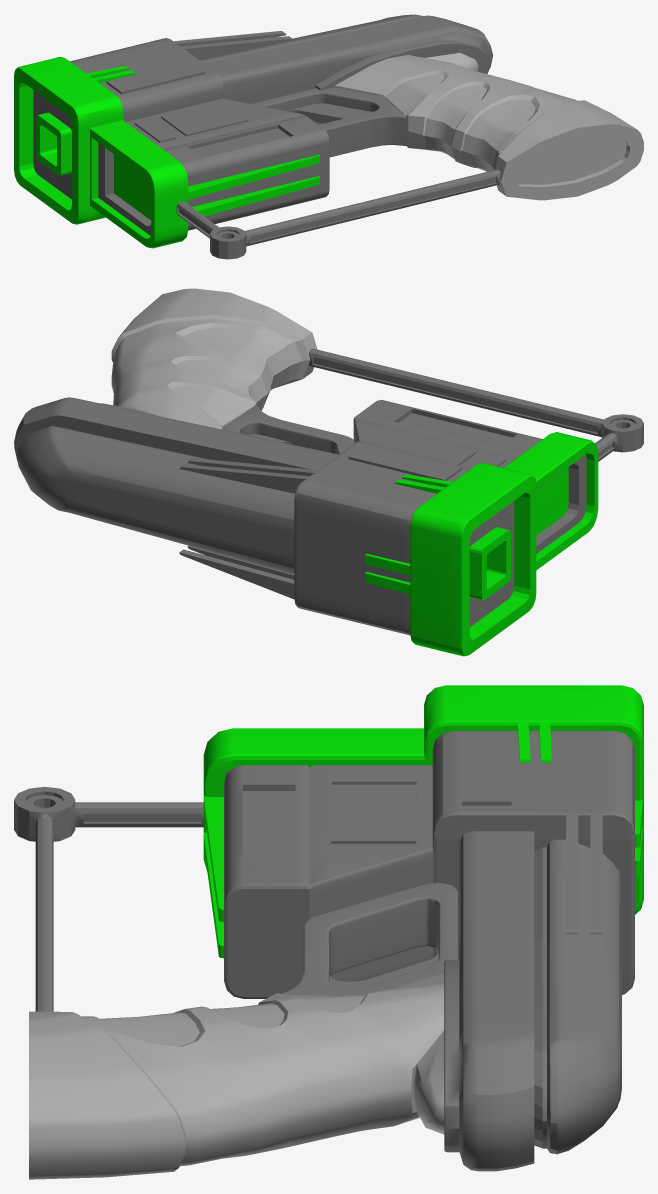
File: LaserPistol1(1).fbx
3 renders of one model, top to bottom at view 1: azimuth 30°, elevation 25°; view 2: azimuth 150°, elevation 25°; view 3: azimuth 270°, elevation 25°, orthographic. The views are drawn at different scales.
Parts seen in each view (by area): view 1: BarrelCap, Grip, Barrel, Reciever, Support, Trigger; view 2: Barrel, Reciever, BarrelCap, Grip, Support, Trigger; view 3: Barrel, Grip, Reciever, BarrelCap, Trigger, Support.
Part boxes in pixels (box(x1,y1,x2,y2)): BarrelCap: box(14, 57, 319, 248); Grip: box(335, 53, 643, 200); Barrel: box(70, 31, 329, 230); Reciever: box(200, 14, 492, 124); Support: box(176, 169, 500, 259); Trigger: box(252, 87, 408, 157); Barrel: box(179, 399, 542, 635); Reciever: box(14, 397, 338, 574); BarrelCap: box(365, 432, 598, 656); Grip: box(111, 288, 317, 429); Support: box(309, 348, 643, 461); Trigger: box(222, 405, 354, 454); Barrel: box(224, 731, 634, 998); Grip: box(29, 973, 444, 1179); Reciever: box(444, 831, 621, 1171); BarrelCap: box(203, 685, 643, 958); Trigger: box(282, 882, 458, 996); Support: box(14, 786, 203, 1011).
Size of the model in its own units: 6.23 by 1.56 by 4.48.
